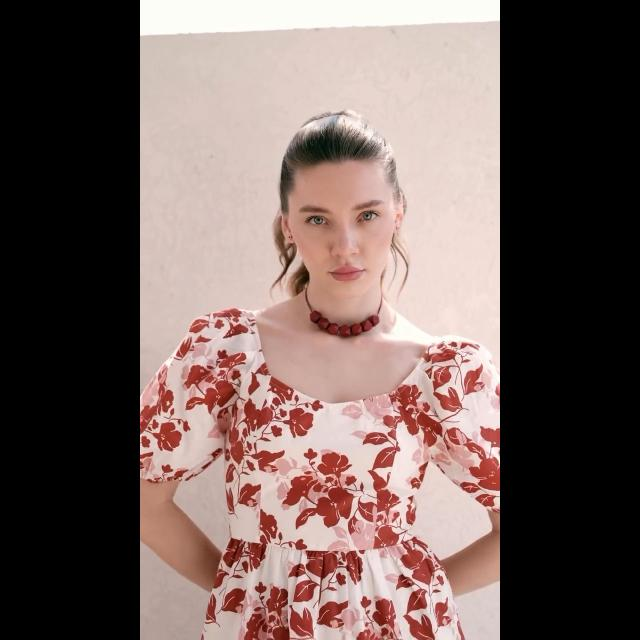dress: (144, 299, 500, 640)
